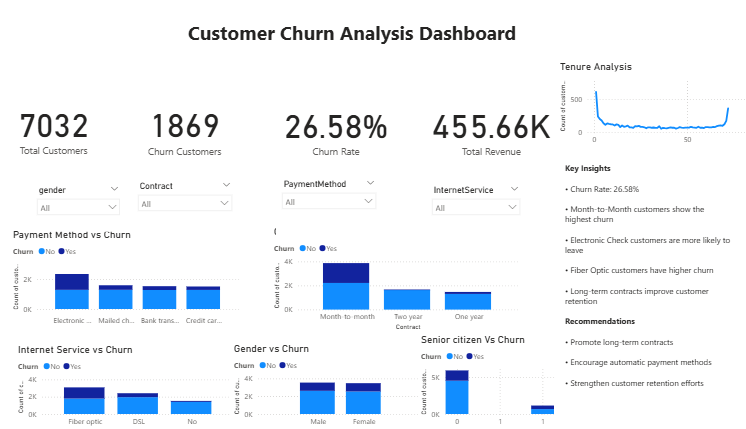

What the dashboard file says about the page in this screenshot:
{"tool":"powerbi","page":{"name":"Page 1","canvas":[1280,720],"ordinal":0},"visuals":[{"type":"card","fields":{"Values":["WA_Fn-UseC_-Telco-Customer-Churn.Total Customers"]},"box":[0,140,182,144],"z":0},{"type":"card","fields":{"Values":["WA_Fn-UseC_-Telco-Customer-Churn.Churn Customers"]},"box":[214,144,192,140],"z":1000},{"type":"card","fields":{"Values":["WA_Fn-UseC_-Telco-Customer-Churn.Churn Rate"]},"box":[462,136,200,154],"z":2000},{"type":"card","fields":{"Values":["WA_Fn-UseC_-Telco-Customer-Churn.Total Revenue"]},"box":[712,146,218,134],"z":3000},{"type":"lineStackedColumnComboChart","title":"Contract Type vs Churn","fields":{"Category":["WA_Fn-UseC_-Telco-Customer-Churn.Contract"],"Y":["CountNonNull(WA_Fn-UseC_-Telco-Customer-Churn.customerID)"],"Series":["WA_Fn-UseC_-Telco-Customer-Churn.Churn"]},"box":[453.3,375,416.7,180],"z":4000},{"type":"lineStackedColumnComboChart","title":"Payment Method vs Churn","fields":{"Category":["WA_Fn-UseC_-Telco-Customer-Churn.PaymentMethod"],"Y":["CountNonNull(WA_Fn-UseC_-Telco-Customer-Churn.customerID)"],"Series":["WA_Fn-UseC_-Telco-Customer-Churn.Churn"]},"box":[18.3,380,386.7,170],"z":5000},{"type":"lineStackedColumnComboChart","title":"Internet Service vs Churn","fields":{"Category":["WA_Fn-UseC_-Telco-Customer-Churn.InternetService"],"Y":["CountNonNull(WA_Fn-UseC_-Telco-Customer-Churn.customerID)"],"Series":["WA_Fn-UseC_-Telco-Customer-Churn.Churn"]},"box":[26.7,571.7,371.7,148.3],"z":6000},{"type":"slicer","fields":{"Values":["WA_Fn-UseC_-Telco-Customer-Churn.gender"]},"box":[53.3,303.3,158.3,83.3],"z":7000},{"type":"slicer","fields":{"Values":["WA_Fn-UseC_-Telco-Customer-Churn.Contract"]},"box":[221.7,296.7,176.7,95],"z":8000},{"type":"slicer","fields":{"Values":["WA_Fn-UseC_-Telco-Customer-Churn.PaymentMethod"]},"box":[461.7,293.3,176.7,108.3],"z":9000},{"type":"slicer","fields":{"Values":["WA_Fn-UseC_-Telco-Customer-Churn.InternetService"]},"box":[711.7,303.3,166.7,113.3],"z":10000},{"type":"textbox","box":[310,26,564,74],"z":11000},{"type":"lineStackedColumnComboChart","title":"Gender vs Churn","fields":{"Category":["WA_Fn-UseC_-Telco-Customer-Churn.gender"],"Y":["CountNonNull(WA_Fn-UseC_-Telco-Customer-Churn.customerID)"],"Series":["WA_Fn-UseC_-Telco-Customer-Churn.Churn"]},"box":[386.7,570,326.7,150],"z":12000},{"type":"lineStackedColumnComboChart","title":"Senior citizen Vs Churn","fields":{"Category":["WA_Fn-UseC_-Telco-Customer-Churn.SeniorCitizen"],"Y":["CountNonNull(WA_Fn-UseC_-Telco-Customer-Churn.customerID)"],"Series":["WA_Fn-UseC_-Telco-Customer-Churn.Churn"]},"box":[698.3,555,231.7,165],"z":13000},{"type":"lineChart","title":"Tenure Analysis","fields":{"Category":["WA_Fn-UseC_-Telco-Customer-Churn.tenure"],"Y":["CountNonNull(WA_Fn-UseC_-Telco-Customer-Churn.customerID)"]},"box":[930,100,325,150],"z":14000},{"type":"textbox","box":[938.3,266.7,288.3,425],"z":15000}]}

Visuals, with their boxes in screenshot pixels (x1, y1, x2, y2), scaled from the page's 1280x720 canvas onto the 746x429 screenshot:
card - WA_Fn-UseC_-Telco-Customer-Churn.Total Customers: select_region(0, 83, 106, 169)
card - WA_Fn-UseC_-Telco-Customer-Churn.Churn Customers: select_region(125, 86, 237, 169)
card - WA_Fn-UseC_-Telco-Customer-Churn.Churn Rate: select_region(269, 81, 386, 173)
card - WA_Fn-UseC_-Telco-Customer-Churn.Total Revenue: select_region(415, 87, 542, 167)
"Contract Type vs Churn" lineStackedColumnComboChart: select_region(264, 223, 507, 331)
"Payment Method vs Churn" lineStackedColumnComboChart: select_region(11, 226, 236, 328)
"Internet Service vs Churn" lineStackedColumnComboChart: select_region(16, 341, 232, 428)
slicer - WA_Fn-UseC_-Telco-Customer-Churn.gender: select_region(31, 181, 123, 230)
slicer - WA_Fn-UseC_-Telco-Customer-Churn.Contract: select_region(129, 177, 232, 233)
slicer - WA_Fn-UseC_-Telco-Customer-Churn.PaymentMethod: select_region(269, 175, 372, 239)
slicer - WA_Fn-UseC_-Telco-Customer-Churn.InternetService: select_region(415, 181, 512, 248)
textbox: select_region(181, 15, 509, 60)
"Gender vs Churn" lineStackedColumnComboChart: select_region(225, 340, 416, 428)
"Senior citizen Vs Churn" lineStackedColumnComboChart: select_region(407, 331, 542, 428)
"Tenure Analysis" lineChart: select_region(542, 60, 731, 149)
textbox: select_region(547, 159, 715, 412)
